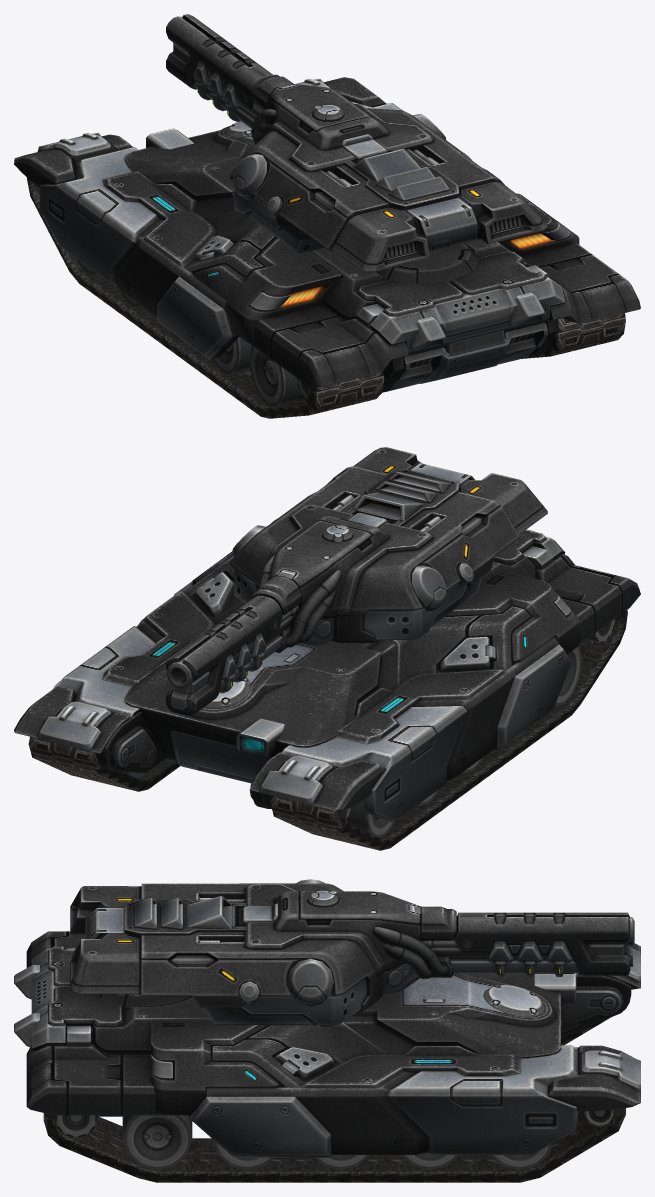
Rendered from UT_ThunderViking.glb.
3 views of the same model, one above another, from view 1: azimuth 30°, elevation 25°; view 2: azimuth 150°, elevation 25°; view 3: azimuth 270°, elevation 25° (orthographic).
Visible parts, largest first — view 1: Hull, turret, lTrack, barrel, rTrack, lwheel05, lwheel04; view 2: Hull, turret, lTrack, barrel, rTrack, lwheel01, lwheel05; view 3: Hull, turret, rTrack, barrel, rwheel05, rwheel_b, rwheel01, rwheel04, rwheel02, rwheel03.
Part boxes in pixels (x1=…): Hull: x1=14, y1=77, x2=640, y2=392; turret: x1=230, y1=74, x2=547, y2=272; lTrack: x1=27, y1=177, x2=384, y2=418; barrel: x1=166, y1=14, x2=272, y2=128; rTrack: x1=522, y1=313, x2=625, y2=358; lwheel05: x1=249, y1=345, x2=304, y2=406; lwheel04: x1=212, y1=336, x2=252, y2=374; Hull: x1=14, y1=529, x2=640, y2=822; turret: x1=230, y1=447, x2=547, y2=652; lTrack: x1=270, y1=610, x2=627, y2=850; barrel: x1=166, y1=595, x2=298, y2=716; rTrack: x1=28, y1=736, x2=180, y2=791; lwheel01: x1=347, y1=800, x2=394, y2=837; lwheel05: x1=555, y1=645, x2=581, y2=706; Hull: x1=14, y1=931, x2=640, y2=1157; turret: x1=70, y1=879, x2=456, y2=1026; rTrack: x1=43, y1=1108, x2=625, y2=1182; barrel: x1=421, y1=912, x2=634, y2=976; rwheel05: x1=122, y1=1115, x2=192, y2=1170; rwheel_b: x1=55, y1=1115, x2=97, y2=1137; rwheel01: x1=490, y1=1143, x2=552, y2=1170; rwheel04: x1=212, y1=1139, x2=273, y2=1170; rwheel02: x1=400, y1=1152, x2=459, y2=1170; rwheel03: x1=314, y1=1155, x2=370, y2=1170.
Size of the model in its own units: 367 by 211 by 570.
3 materials, 3 textured.
